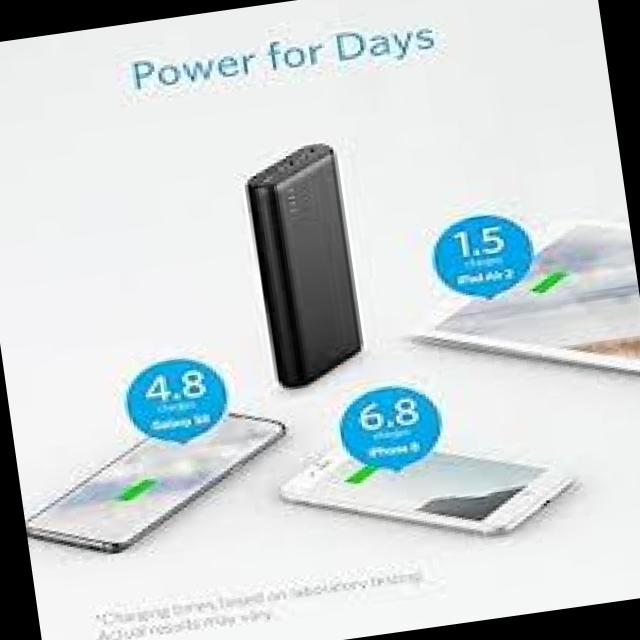power_bank: (239, 138, 374, 392)
